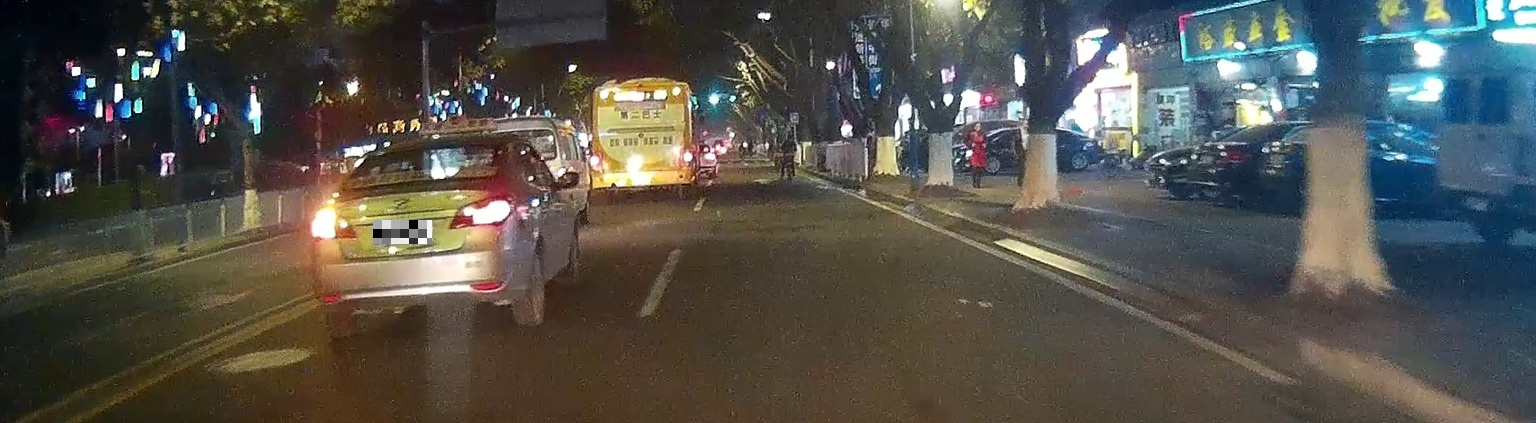L_light: (309, 207, 357, 239), (589, 154, 600, 168)
R_light: (446, 195, 511, 230), (683, 151, 694, 163)
T_light: (412, 148, 432, 154), (633, 90, 652, 94)
night-left: (310, 135, 516, 339)
night-no: (588, 80, 695, 204)
plate_1: (373, 220, 432, 244)
